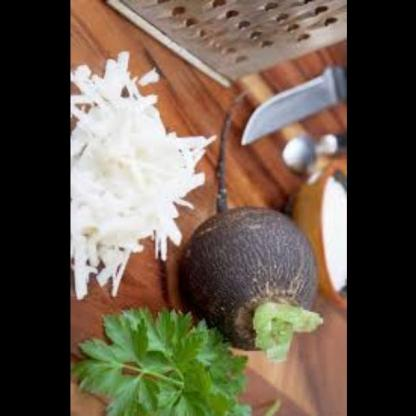redka: (70, 67, 206, 280), (180, 200, 324, 350)
